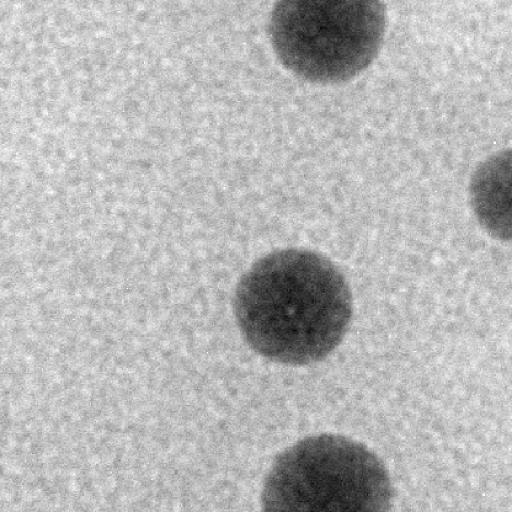Nanoparticles: (228, 245, 354, 364), (266, 0, 389, 86), (260, 433, 391, 512), (468, 144, 512, 242)
